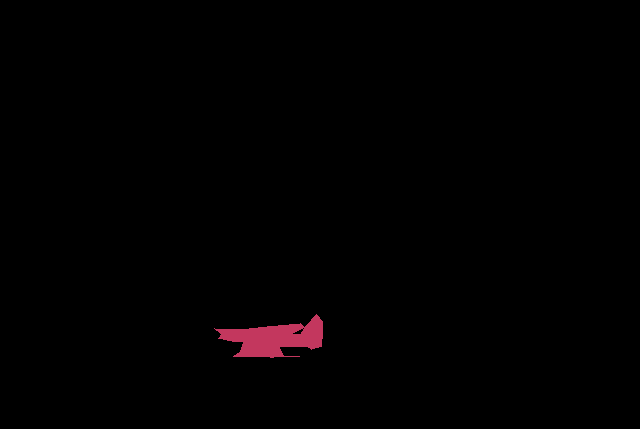Airplane: (214, 314, 323, 357)
